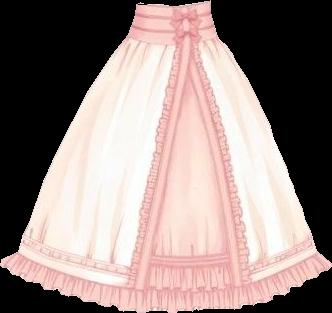Hemline: (17, 64, 317, 290), (0, 262, 331, 312), (145, 283, 233, 294)
Waistline: (124, 35, 218, 47), (135, 0, 210, 7)
